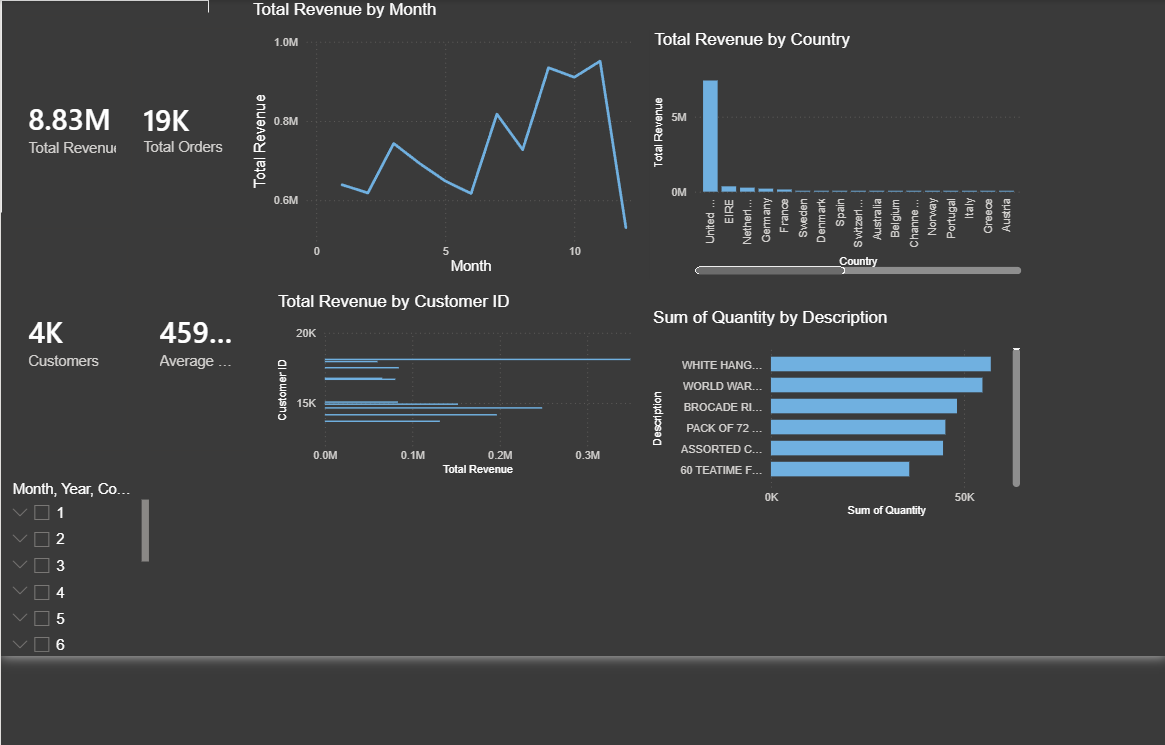

This screenshot's page, from the dashboard's own definition file:
{"tool":"powerbi","page":{"name":"Page 1","canvas":[1280,720],"ordinal":0},"visuals":[{"type":"cardVisual","fields":{"Data":["clean_retail_data.Total Revenue"]},"box":[0,0,227.8,279.9],"z":0},{"type":"cardVisual","fields":{"Data":["clean_retail_data.Customers"]},"box":[0,233.3,157.8,279.9],"z":1000},{"type":"cardVisual","fields":{"Data":["clean_retail_data.Total Orders"]},"box":[126.2,13.7,179.8,251.1],"z":2000},{"type":"cardVisual","fields":{"Data":["clean_retail_data.Average Order Value"]},"box":[144.1,233.3,145.5,279.9],"z":3000},{"type":"lineChart","fields":{"Category":["clean_retail_data.Month"],"Y":["clean_retail_data.Total Revenue"]},"box":[271.7,0,429.5,306],"z":4000},{"type":"columnChart","fields":{"Category":["clean_retail_data.Country"],"Y":["clean_retail_data.Total Revenue"]},"box":[712.2,32.9,413,273.1],"z":5000},{"type":"clusteredBarChart","fields":{"Category":["clean_retail_data.Customer ID"],"Y":["clean_retail_data.Total Revenue"]},"box":[299.1,319.7,411.7,207.2],"z":6000},{"type":"clusteredBarChart","fields":{"Category":["clean_retail_data.Description"],"Y":["Sum(clean_retail_data.Quantity)"]},"box":[710.8,337.6,413,234.6],"z":7000},{"type":"slicer","fields":{"Values":["clean_retail_data.Month","clean_retail_data.Year","clean_retail_data.Country"]},"box":[0,522.8,167.4,197.6],"z":8000}]}

Visuals, with their boxes on the page's 1280x720 design canvas (x1, y1, x2, y2). These are canvas units, not pixel positions in the 1165x745 screenshot, which may show the page scaled, cropped or inside an application window:
cardVisual - clean_retail_data.Total Revenue: [0, 0, 228, 280]
cardVisual - clean_retail_data.Customers: [0, 233, 158, 513]
cardVisual - clean_retail_data.Total Orders: [126, 14, 306, 265]
cardVisual - clean_retail_data.Average Order Value: [144, 233, 290, 513]
lineChart - clean_retail_data.Month x clean_retail_data.Total Revenue: [272, 0, 701, 306]
columnChart - clean_retail_data.Country x clean_retail_data.Total Revenue: [712, 33, 1125, 306]
clusteredBarChart - clean_retail_data.Customer ID x clean_retail_data.Total Revenue: [299, 320, 711, 527]
clusteredBarChart - clean_retail_data.Description x Sum(clean_retail_data.Quantity): [711, 338, 1124, 572]
slicer - clean_retail_data.Month x clean_retail_data.Year: [0, 523, 167, 720]
